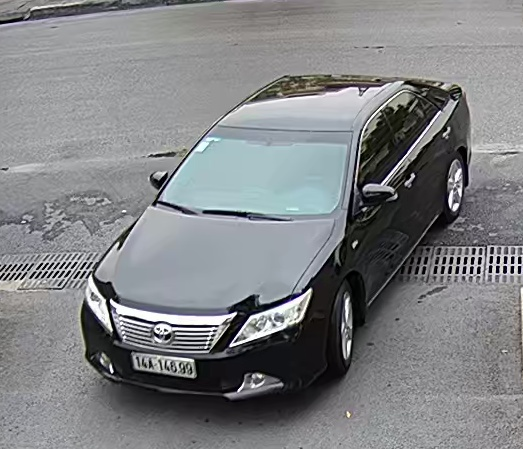vehicle plate: (126, 344, 196, 379)
